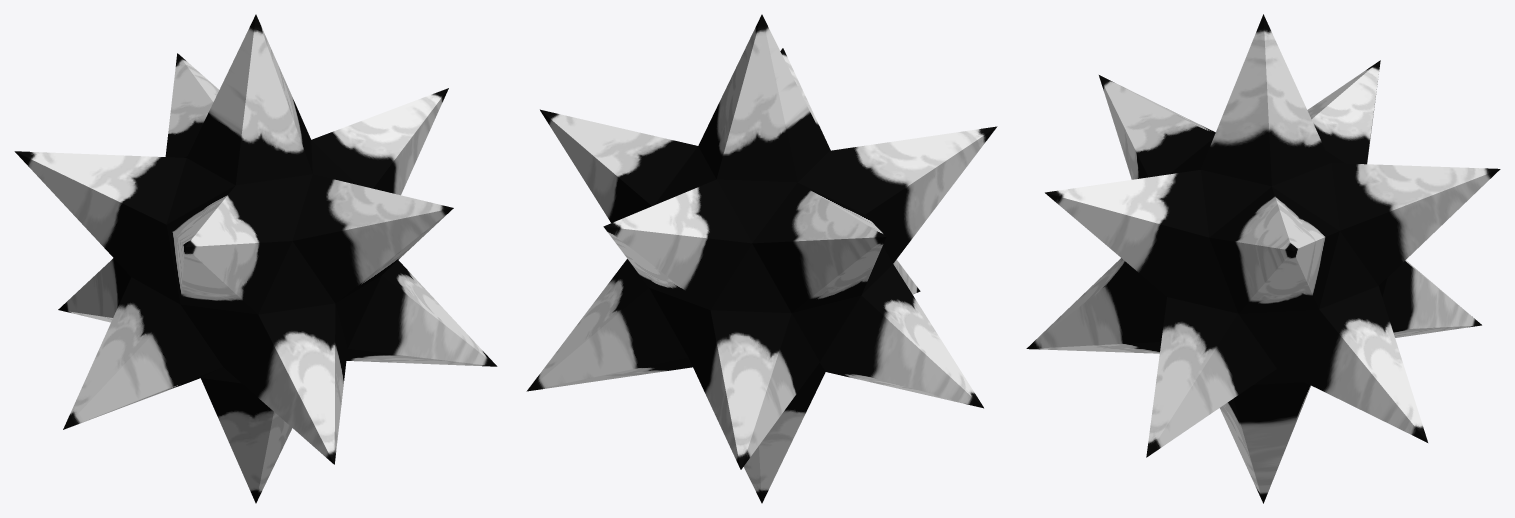
File: 0228_binghua.glb
The picture shows the model from 3 angles, left to right: view 1: azimuth 30°, elevation 25°; view 2: azimuth 150°, elevation 25°; view 3: azimuth 270°, elevation 25°; orthographic projection.
Size of the model in its own units: 1.95 by 2.2 by 1.93.
Materials: 1 (1 with a texture image).
